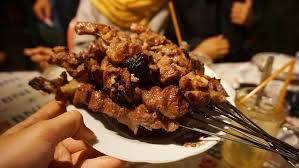Sate ayam/100g: (47, 5, 299, 168)
